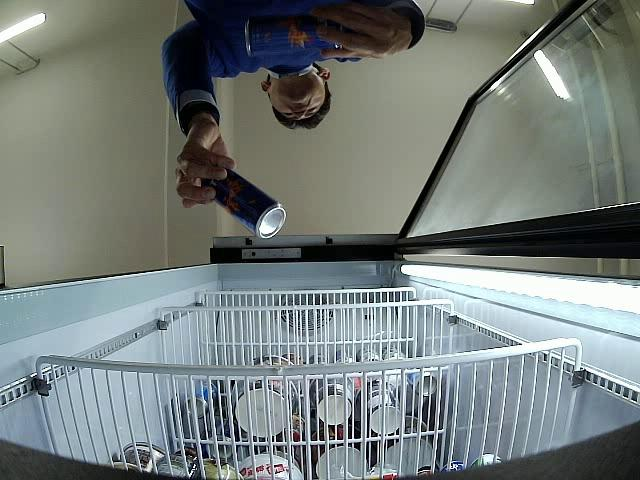00_hand: (315, 4, 412, 60), (175, 130, 235, 208)
16_hot6: (205, 163, 287, 239), (245, 16, 343, 58)
